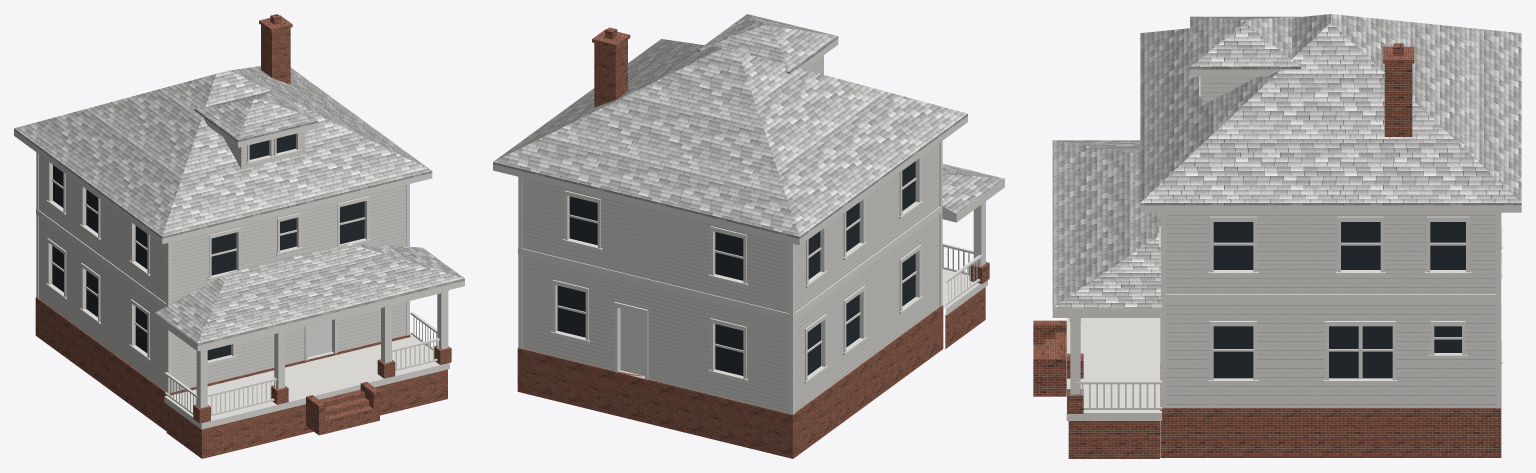
Rendered from house-foursquare.glb.
3 renders of one model, left to right at view 1: azimuth 30°, elevation 25°; view 2: azimuth 150°, elevation 25°; view 3: azimuth 270°, elevation 25°, orthographic. The views are drawn at different scales.
Parts seen in each view (by area): view 1: House; view 2: House; view 3: House.
Boxes of the visible parts, x1=… form: House: x1=14, y1=14, x2=464, y2=458; House: x1=493, y1=14, x2=1004, y2=458; House: x1=1033, y1=14, x2=1521, y2=458.
Bounding box in the file's own units: 10.1 × 10.71 × 12.29.
6 materials, 3 textured.
